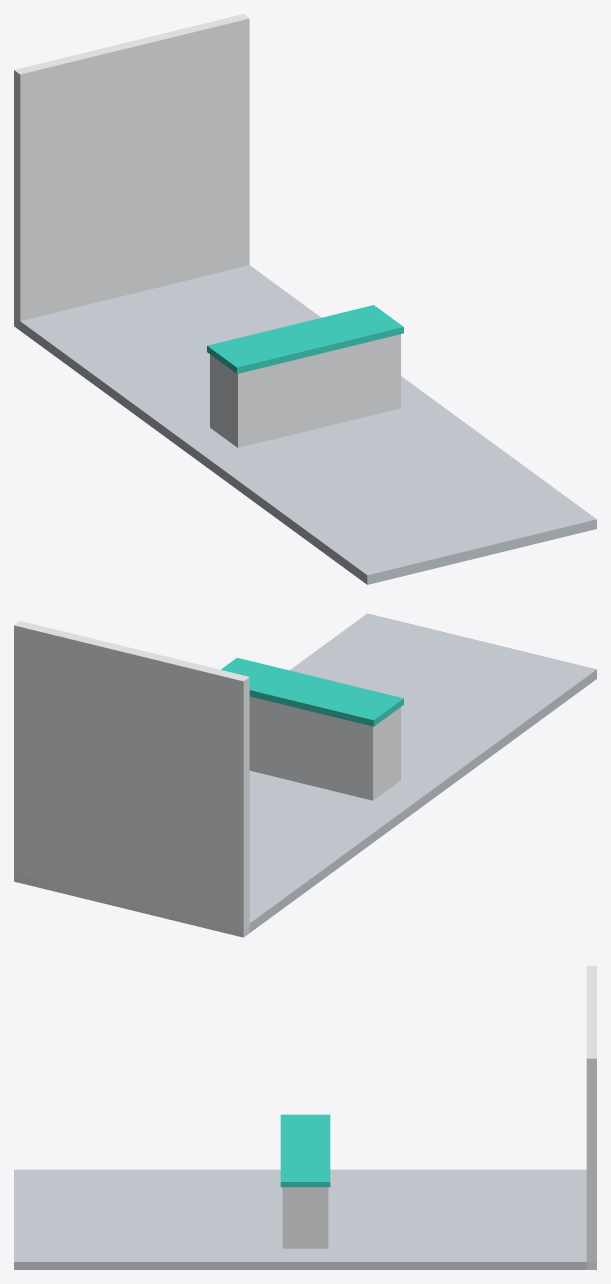
The picture shows the model from 3 angles, top to bottom: view 1: azimuth 30°, elevation 25°; view 2: azimuth 150°, elevation 25°; view 3: azimuth 270°, elevation 25°; orthographic projection. The views are drawn at different scales.
Parts seen in each view (by area): view 1: Exhibition Booth Concept; view 2: Exhibition Booth Concept; view 3: Exhibition Booth Concept.
Part boxes in pixels (x1,y1,x2,y2): Exhibition Booth Concept: (14,14,596,584); Exhibition Booth Concept: (14,613,596,937); Exhibition Booth Concept: (14,966,596,1269).
Bounding box in the file's own units: 3 × 3.2 × 8.
